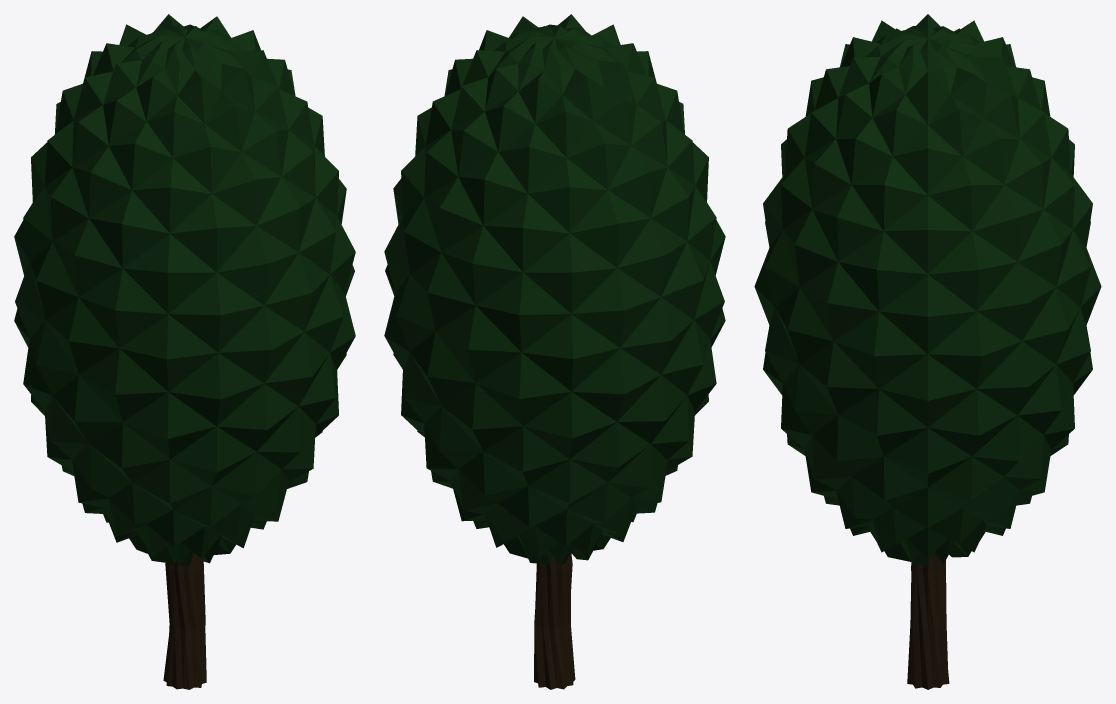
File: TallSkinnyTree_DarkGreen.fbx
3 renders of one model, left to right at view 1: azimuth 30°, elevation 25°; view 2: azimuth 150°, elevation 25°; view 3: azimuth 270°, elevation 25°, orthographic.
Visible parts, largest first — view 1: pSphere2, pCylinder2; view 2: pSphere2, pCylinder2; view 3: pSphere2, pCylinder2.
Boxes of the visible parts, bbox=[...] form: pSphere2: bbox=[14, 14, 355, 565]; pCylinder2: bbox=[163, 553, 206, 689]; pSphere2: bbox=[384, 14, 725, 565]; pCylinder2: bbox=[534, 552, 575, 689]; pSphere2: bbox=[754, 14, 1101, 564]; pCylinder2: bbox=[907, 553, 949, 689].
Size of the model in its own units: 11.59 by 24.03 by 11.73.
